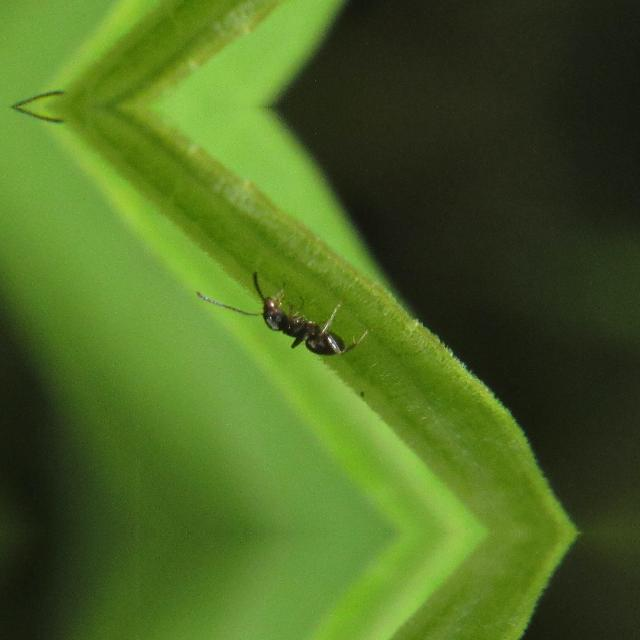Tapinoma: (234, 282, 364, 363)
